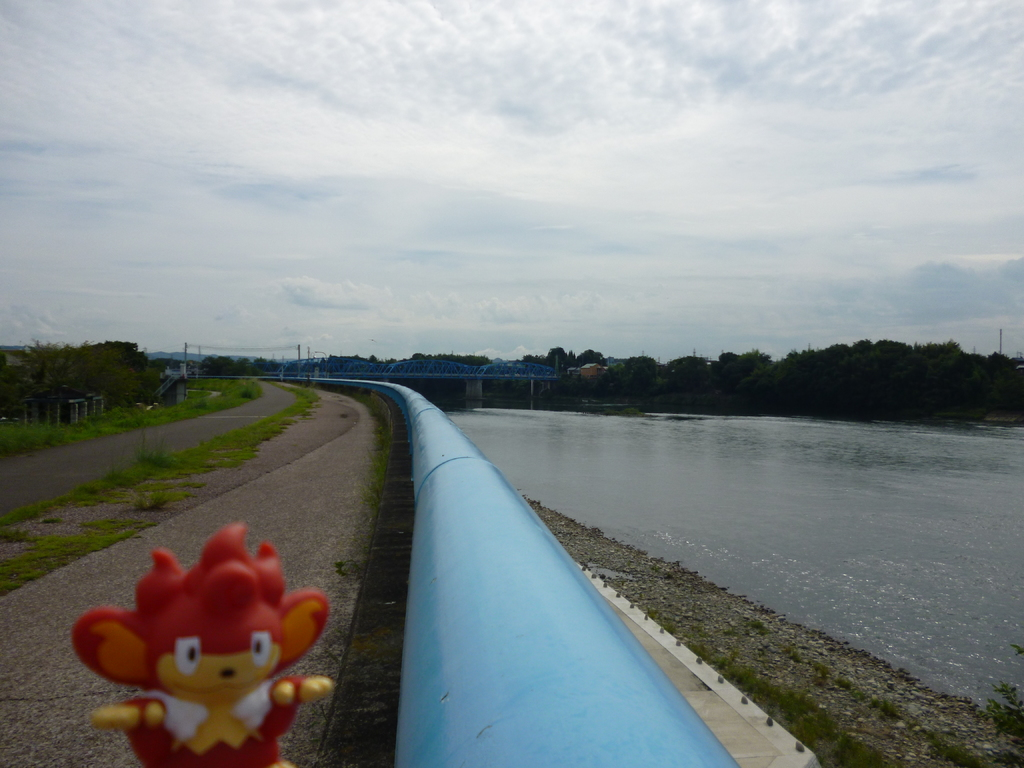Tree: (549, 336, 1023, 415), (28, 336, 160, 407), (515, 346, 614, 378), (196, 354, 281, 379), (396, 355, 488, 363)
